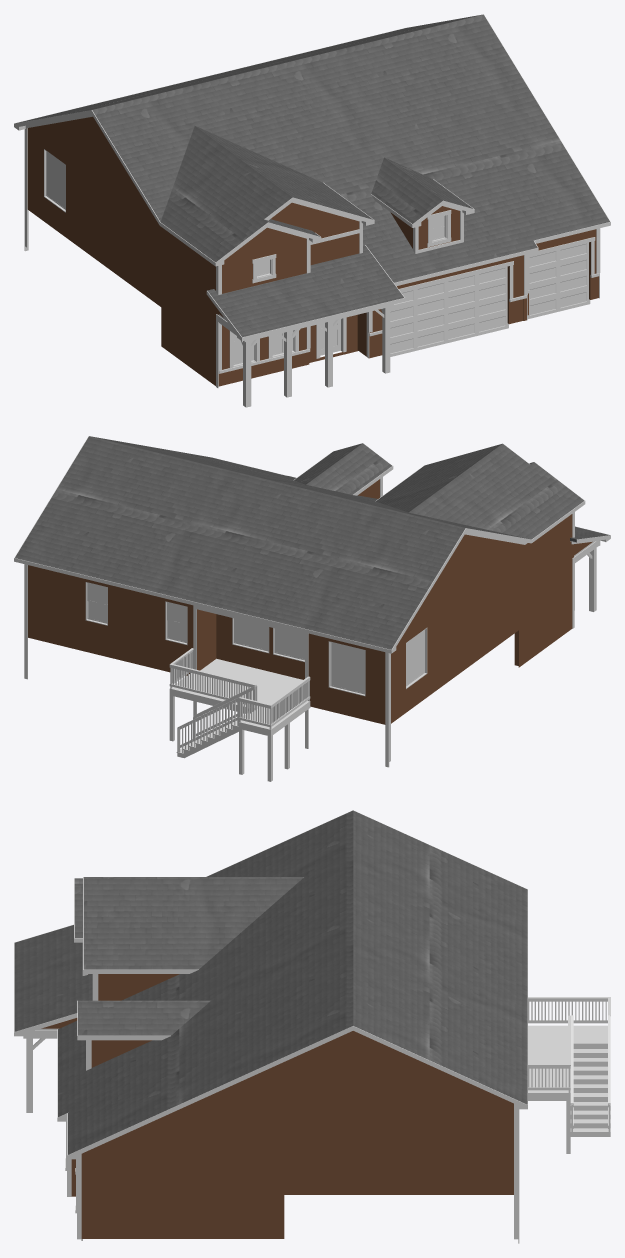
The model's file is 149-1420-dm-farmhouse.glb.
3 renders of one model, top to bottom at view 1: azimuth 30°, elevation 25°; view 2: azimuth 150°, elevation 25°; view 3: azimuth 270°, elevation 25°, orthographic. The views are drawn at different scales.
Parts seen in each view (by area): view 1: Basic Roof Wood Rafter 4" - Asphalt Shingle - Insulated_96cc, Basic Roof Wood Rafter 4" - Asphalt Shingle - Insulated_ff67, Basic Wall BSB Exterior - Stud_5.5" - Sheathing_0.5" - _a6d2, Basic Roof Wood Rafter 4" - Asphalt Shingle - Insulated_c67f, Traditional - BSB Exterior - Overhead Garage Door - Clo_a2a6, Basic Wall BSB Exterior - Stud_5.5" - Sheathing_0.5" - _1dc8, Basic Wall BSB Exterior - Stud_1.5" - Sheathing_0.5" - _d800, Traditional - BSB Exterior - Overhead Garage Door - Clo_252f, Basic Wall BSB Exterior - Stud_5.5" - Sheathing_0.5" - _e8b0, Basic Roof Wood Rafter 4" - Asphalt Shingle - Insulated_2393, Fascia Fascia-Flat 1x6 w/12" Soffit Bd [4588276], Basic Wall BSB Exterior - Stud_5.5" - Sheathing_0.5" - _875d (+15 smaller); view 2: Basic Roof Wood Rafter 4" - Asphalt Shingle - Insulated_96cc, Basic Roof Wood Rafter 4" - Asphalt Shingle - Insulated_ff67, Basic Wall BSB Exterior - Stud_5.5" - Sheathing_0.5" - _6cac, Basic Wall BSB Exterior - Stud_5.5" - Sheathing_0.5" - _a6d2, Basic Wall BSB Exterior - Stud_5.5" - Sheathing_0.5" - _1dc8, Basic Wall BSB Exterior - Stud_5.5" - Sheathing_0.5" - _8784, Floor Decking - 2x10 w/ 5/4x6 Decking [4292002], Basic Wall BSB Exterior - Stud_1.5" - Sheathing_0.5" - _d800, Basic Roof Wood Rafter 4" - Asphalt Shingle - Insulated_2393, Fascia Fascia-Flat 1x6 w/12" Soffit Bd [4588276], Basic Wall BSB Exterior - Stud_5.5" - Sheathing_0.5" - _875d, Basic Wall BSB Exterior - Stud_5.5" - Sheathing_0.5" - _1ba4 (+10 smaller); view 3: Basic Roof Wood Rafter 4" - Asphalt Shingle - Insulated_96cc, Basic Wall BSB Exterior - Stud_5.5" - Sheathing_0.5" - _c049, Basic Roof Wood Rafter 4" - Asphalt Shingle - Insulated_ff67, Basic Wall BSB Exterior - Stud_1.5" - Sheathing_0.5" - _0230, Basic Wall BSB Exterior - Stud_1.5" - Sheathing_0.5" - _edae, Basic Wall BSB Exterior - Stud_3.5" - Sheathing_0.5" - _1d57, Basic Wall BSB Exterior - Stud_3.5" - Sheathing_0.5" - _9d0e, Basic Roof Wood Rafter 4" - Asphalt Shingle - Insulated_c67f, Basic Roof Wood Rafter 4" - Asphalt Shingle - Insulated_2393, Floor Decking - 2x10 w/ 5/4x6 Decking [4292002], Assembled Stair Stair [4368467]_[4368720], Fascia Fascia-Flat 1x6 w/12" Soffit Bd [4588276] (+6 smaller).
Boxes of the visible parts, x1=… form: Basic Roof Wood Rafter 4" - Asphalt Shingle - Insulated_96cc: x1=16, y1=14, x2=609, y2=282; Basic Roof Wood Rafter 4" - Asphalt Shingle - Insulated_ff67: x1=160, y1=126, x2=373, y2=262; Basic Wall BSB Exterior - Stud_5.5" - Sheathing_0.5" - _a6d2: x1=27, y1=128, x2=161, y2=306; Basic Roof Wood Rafter 4" - Asphalt Shingle - Insulated_c67f: x1=207, y1=245, x2=404, y2=337; Traditional - BSB Exterior - Overhead Garage Door - Clo_a2a6: x1=390, y1=266, x2=508, y2=356; Basic Wall BSB Exterior - Stud_5.5" - Sheathing_0.5" - _1dc8: x1=161, y1=227, x2=195, y2=371; Basic Wall BSB Exterior - Stud_1.5" - Sheathing_0.5" - _d800: x1=28, y1=116, x2=157, y2=222; Traditional - BSB Exterior - Overhead Garage Door - Clo_252f: x1=527, y1=242, x2=590, y2=318; Basic Wall BSB Exterior - Stud_5.5" - Sheathing_0.5" - _e8b0: x1=218, y1=246, x2=309, y2=386; Basic Roof Wood Rafter 4" - Asphalt Shingle - Insulated_2393: x1=371, y1=157, x2=472, y2=223; Fascia Fascia-Flat 1x6 w/12" Soffit Bd [4588276]: x1=15, y1=14, x2=610, y2=286; Basic Wall BSB Exterior - Stud_5.5" - Sheathing_0.5" - _875d: x1=196, y1=252, x2=218, y2=385; Basic Roof Wood Rafter 4" - Asphalt Shingle - Insulated_96cc: x1=15, y1=436, x2=528, y2=649; Basic Roof Wood Rafter 4" - Asphalt Shingle - Insulated_ff67: x1=376, y1=443, x2=584, y2=539; Basic Wall BSB Exterior - Stud_5.5" - Sheathing_0.5" - _6cac: x1=28, y1=565, x2=193, y2=675; Basic Wall BSB Exterior - Stud_5.5" - Sheathing_0.5" - _a6d2: x1=391, y1=552, x2=518, y2=723; Basic Wall BSB Exterior - Stud_5.5" - Sheathing_0.5" - _1dc8: x1=514, y1=528, x2=552, y2=667; Basic Wall BSB Exterior - Stud_5.5" - Sheathing_0.5" - _8784: x1=308, y1=633, x2=385, y2=724; Floor Decking - 2x10 w/ 5/4x6 Decking [4292002]: x1=169, y1=658, x2=310, y2=736; Basic Wall BSB Exterior - Stud_1.5" - Sheathing_0.5" - _d800: x1=402, y1=534, x2=525, y2=636; Basic Roof Wood Rafter 4" - Asphalt Shingle - Insulated_2393: x1=294, y1=443, x2=391, y2=494; Fascia Fascia-Flat 1x6 w/12" Soffit Bd [4588276]: x1=14, y1=436, x2=531, y2=653; Basic Wall BSB Exterior - Stud_5.5" - Sheathing_0.5" - _875d: x1=552, y1=514, x2=573, y2=642; Basic Wall BSB Exterior - Stud_5.5" - Sheathing_0.5" - _1ba4: x1=216, y1=614, x2=304, y2=679; Basic Roof Wood Rafter 4" - Asphalt Shingle - Insulated_96cc: x1=58, y1=810, x2=527, y2=1154; Basic Wall BSB Exterior - Stud_5.5" - Sheathing_0.5" - _c049: x1=282, y1=1103, x2=513, y2=1194; Basic Roof Wood Rafter 4" - Asphalt Shingle - Insulated_ff67: x1=74, y1=877, x2=303, y2=969; Basic Wall BSB Exterior - Stud_1.5" - Sheathing_0.5" - _0230: x1=282, y1=1031, x2=511, y2=1102; Basic Wall BSB Exterior - Stud_1.5" - Sheathing_0.5" - _edae: x1=81, y1=1063, x2=282, y2=1154; Basic Wall BSB Exterior - Stud_3.5" - Sheathing_0.5" - _1d57: x1=172, y1=1155, x2=284, y2=1238; Basic Wall BSB Exterior - Stud_3.5" - Sheathing_0.5" - _9d0e: x1=81, y1=1155, x2=172, y2=1238; Basic Roof Wood Rafter 4" - Asphalt Shingle - Insulated_c67f: x1=14, y1=925, x2=92, y2=1031; Basic Roof Wood Rafter 4" - Asphalt Shingle - Insulated_2393: x1=78, y1=1000, x2=210, y2=1035; Floor Decking - 2x10 w/ 5/4x6 Decking [4292002]: x1=528, y1=1025, x2=607, y2=1100; Assembled Stair Stair [4368467]_[4368720]: x1=570, y1=1045, x2=610, y2=1136; Fascia Fascia-Flat 1x6 w/12" Soffit Bd [4588276]: x1=57, y1=810, x2=527, y2=1155.
Size of the model in its own units: 15.58 by 7.66 by 18.21.
2 materials, 1 textured.
